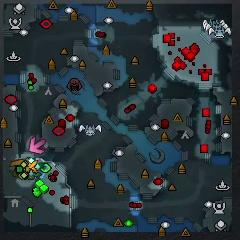Other: (24, 158, 40, 177)
x1: (29, 138, 46, 154)
x5: (10, 159, 24, 174)
